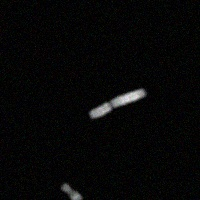chromosome: (90, 89, 145, 119), (61, 183, 82, 200)
